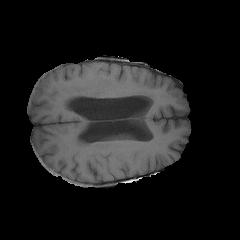glioma: (59, 78, 155, 107)
